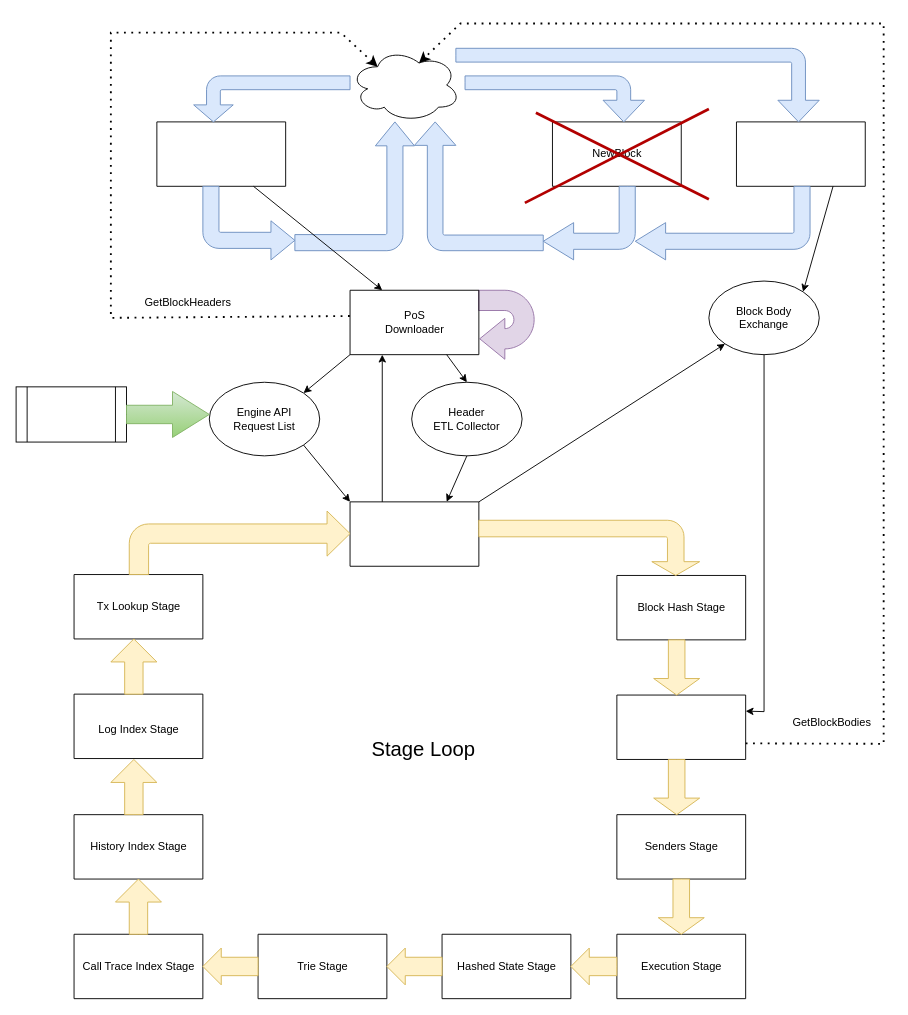
Some shapes in this 908 by 1015 pixel diagram are drawn without their labels. Each missing label, with the centre of its shape:
"BlockBodies" belongs at point 800,153.
"BlockHeaders" belongs at point 221,153.
"Bodies Stage" belongs at point 681,726.
"Consensus Layer Node" belongs at point 70,414.
"Headers Stage" belongs at point 414,533.
"p2p network via Sentry" belongs at point 404,84.
